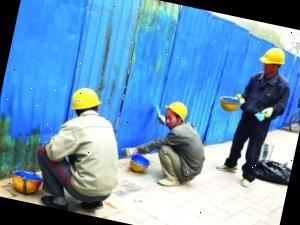helmet: (69, 83, 108, 115), (258, 44, 290, 68), (164, 98, 192, 120)
no_wear: (162, 124, 209, 176)
wear: (242, 70, 290, 122)
